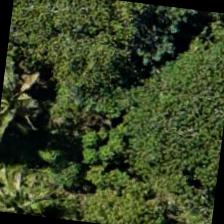Kelapa_Sawit: (0, 60, 79, 159)
